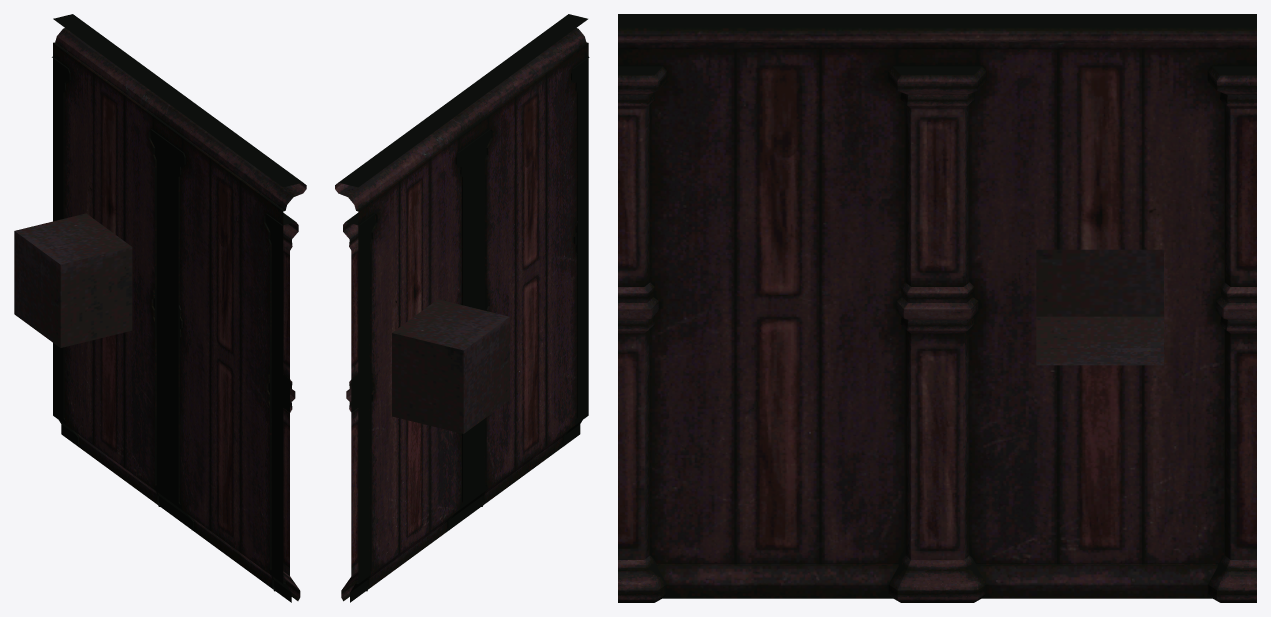
Rendered from 42_default02_secret.dae.
3 renders of one model, left to right at view 1: azimuth 30°, elevation 25°; view 2: azimuth 150°, elevation 25°; view 3: azimuth 270°, elevation 25°, orthographic. The views are drawn at different scales.
Parts seen in each view (by area): view 1: Cube_002; view 2: Cube_002; view 3: Cube_002.
Part boxes in pixels (box(x1,y1,x2,y2)): Cube_002: box(14, 14, 306, 602); Cube_002: box(335, 14, 589, 602); Cube_002: box(618, 14, 1256, 602).
Bounding box in the file's own units: 0.955 × 4 × 4.
Materials: 1 (1 with a texture image).
